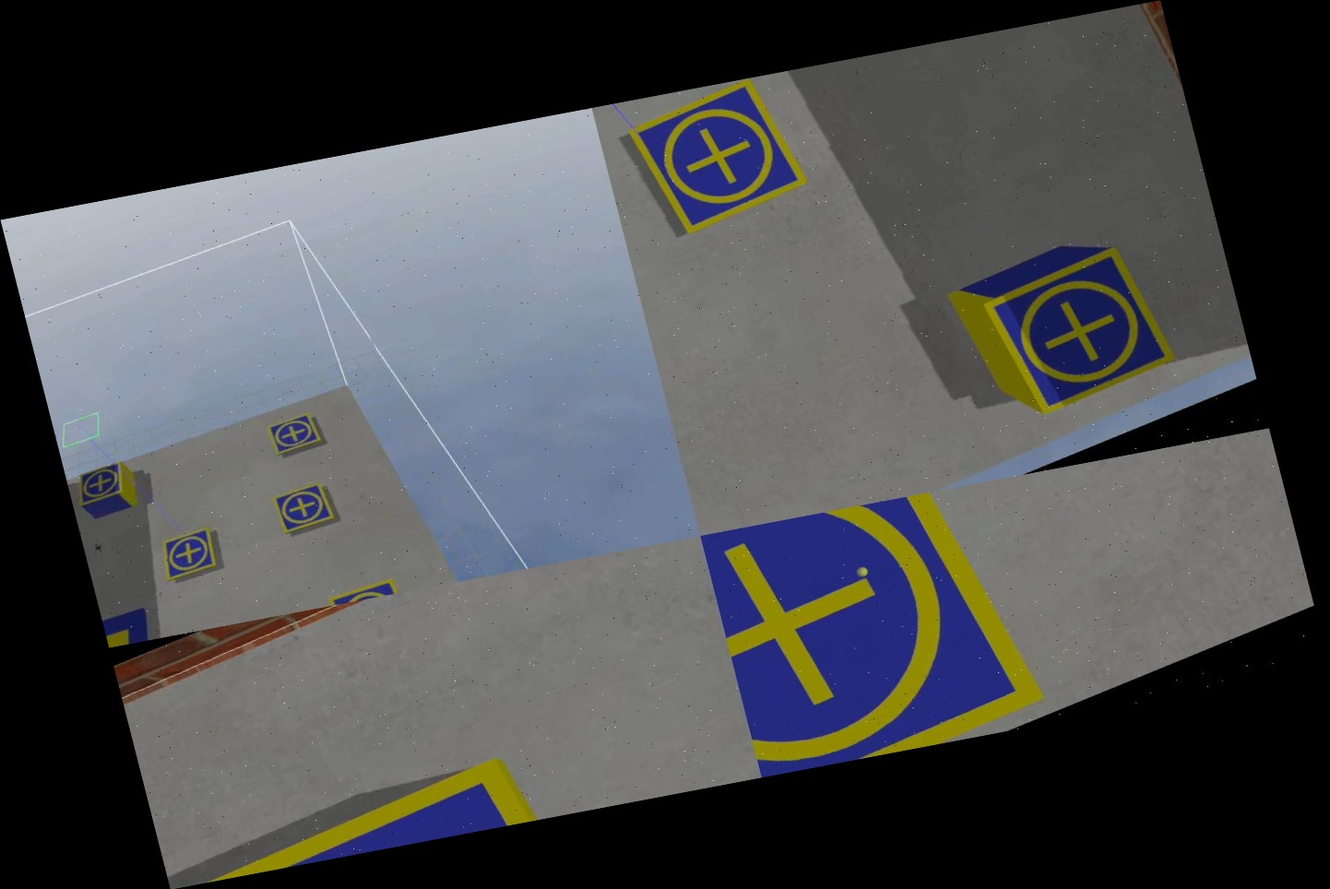small_base: (700, 481, 1050, 776), (152, 735, 604, 889), (969, 236, 1189, 423), (618, 71, 820, 241), (148, 522, 230, 586), (265, 476, 342, 539), (64, 456, 137, 507), (260, 407, 327, 459), (322, 572, 405, 606)
